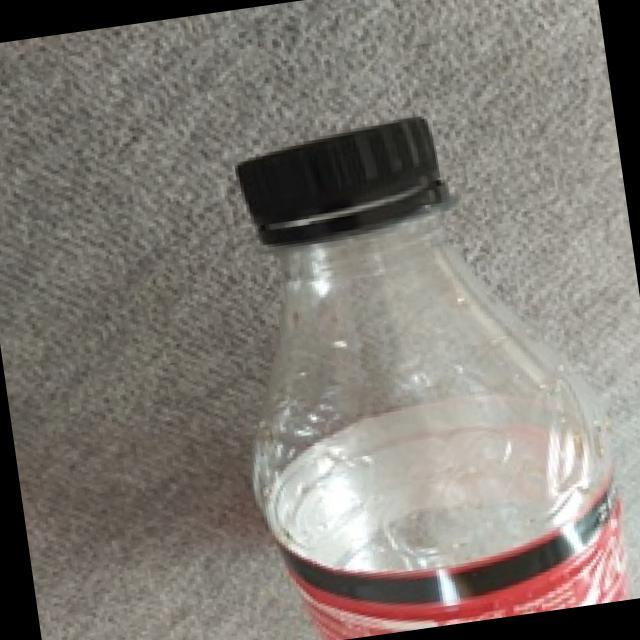good: (215, 99, 633, 640)
